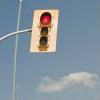Traffic light: (15, 0, 63, 60)
